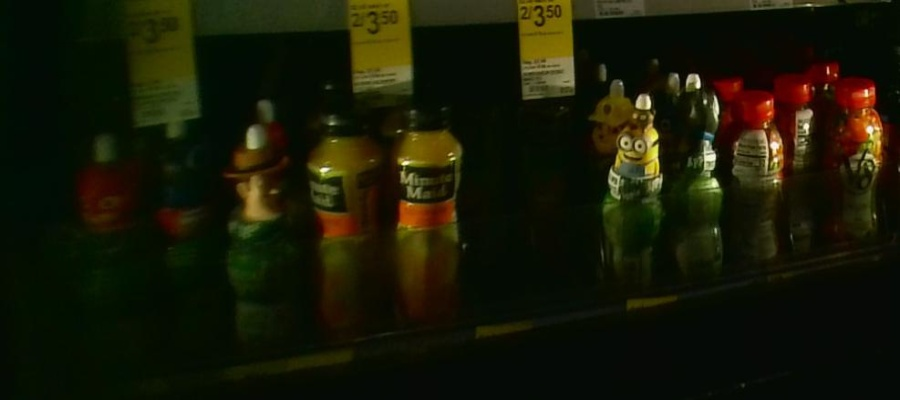bottle: (222, 110, 299, 367), (75, 128, 150, 388), (302, 102, 381, 342), (386, 102, 465, 331), (154, 120, 219, 368), (668, 65, 727, 284), (605, 91, 664, 302), (729, 88, 782, 274), (828, 74, 884, 246), (781, 71, 823, 255)
